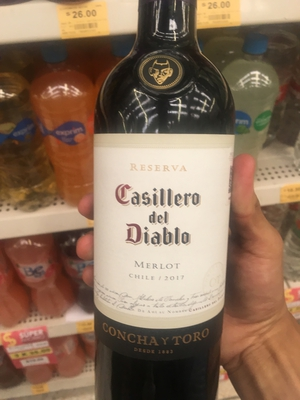casillero del diablo merlot: (87, 16, 230, 399)
